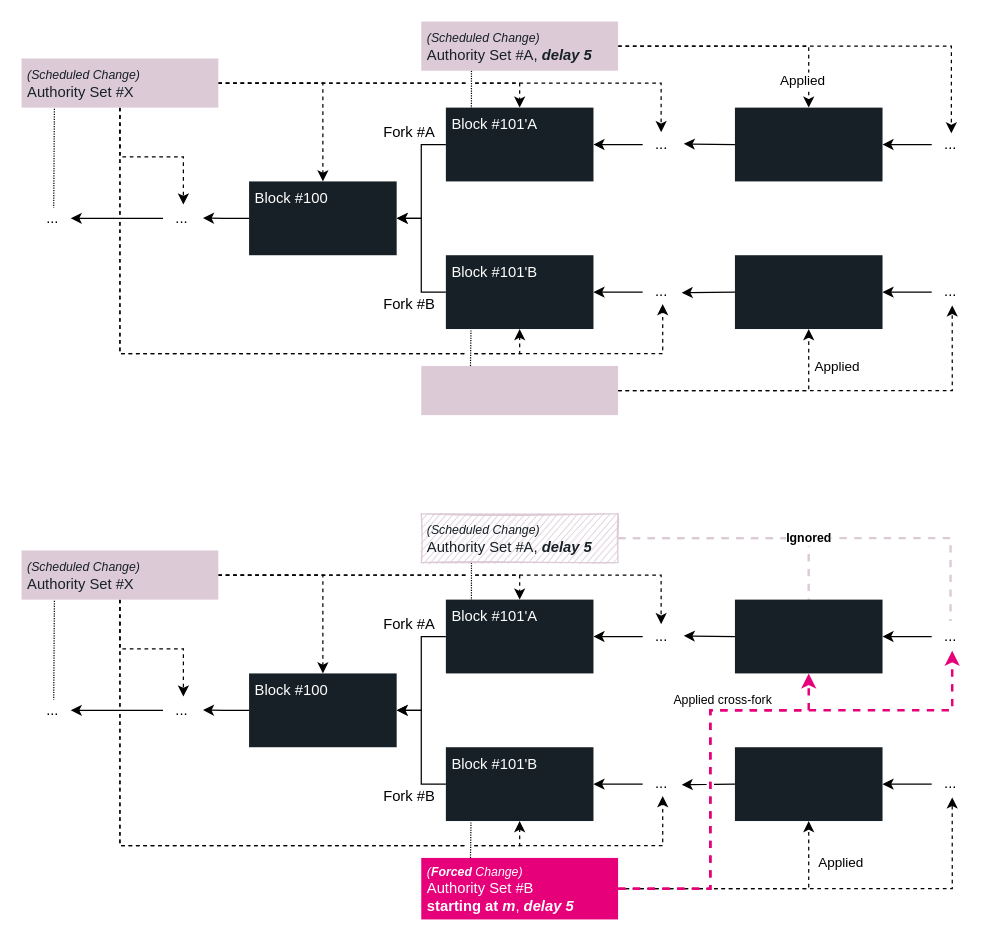
This 989x940 diagram has some shape labels left out. The centre of each missing label's shape, as x and y in pixels:
"(Scheduled Change) Authority Set #B, delay 5" goes at point (519, 390).
"Block #(m+5)'A" goes at point (808, 636).
"Block #(m+5)'B" goes at point (808, 783).
"Block #106'A" goes at point (808, 144).
"Block #106'B" goes at point (808, 291).
